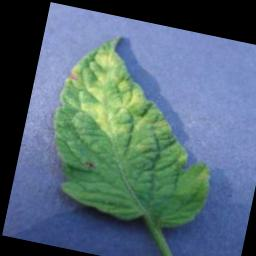Leaf_Mold: (54, 23, 185, 158)
